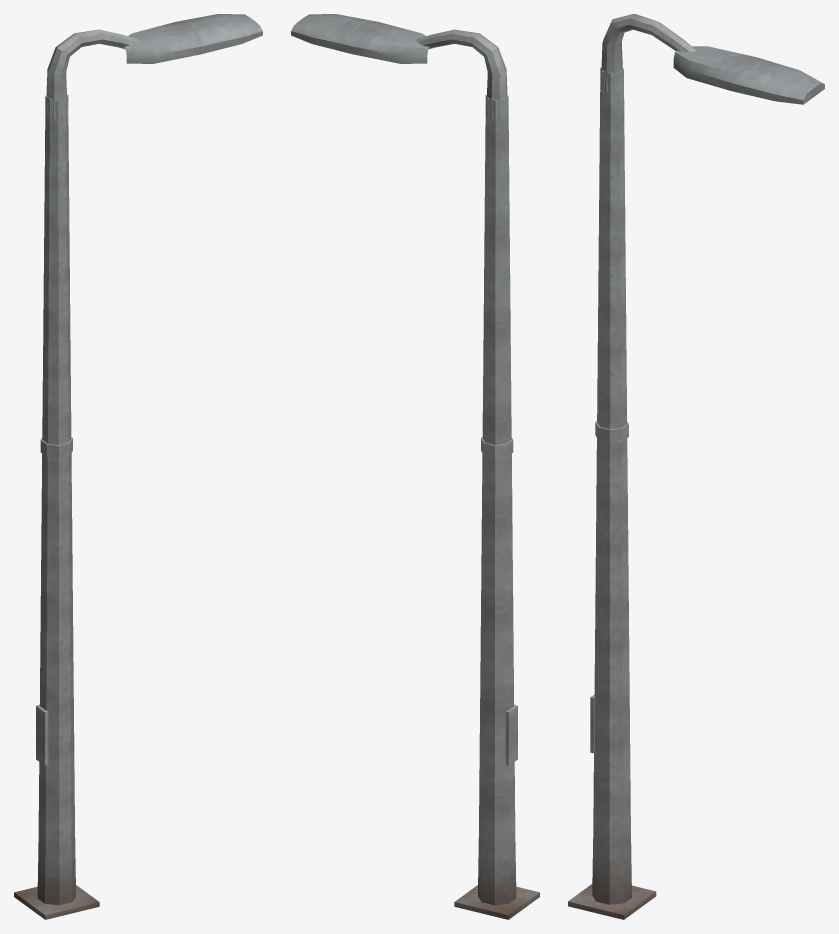
File: LM_PROP_StreetLamp.glb
The picture shows the model from 3 angles, left to right: view 1: azimuth 30°, elevation 25°; view 2: azimuth 150°, elevation 25°; view 3: azimuth 330°, elevation 25°; orthographic projection. The views are drawn at different scales.
Visible parts, largest first — view 1: LM_PROP_StreetLamp; view 2: LM_PROP_StreetLamp; view 3: LM_PROP_StreetLamp.
Boxes of the visible parts, x1,y1,x2,y2 form: LM_PROP_StreetLamp: [14, 14, 262, 919]; LM_PROP_StreetLamp: [291, 14, 539, 919]; LM_PROP_StreetLamp: [568, 14, 824, 919].
Bounding box in the file's own units: 1.48 × 5.49 × 0.36.
2 materials, 2 textured.
